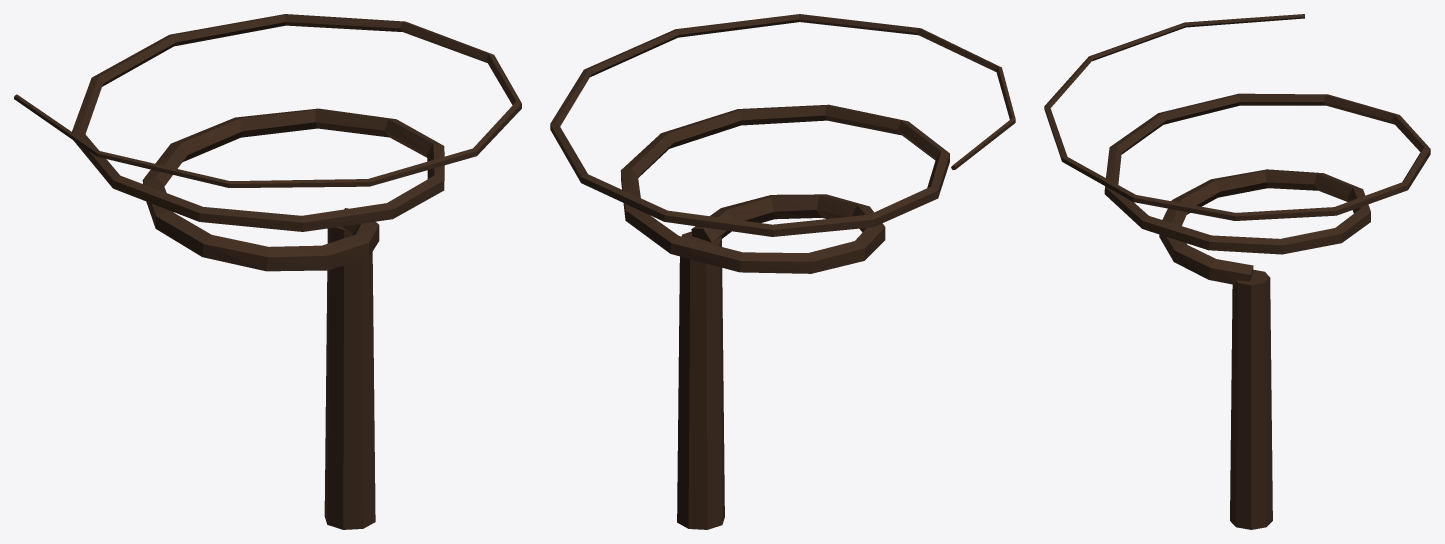
The model's file is g-whip.glb.
3 views of the same model, side by side, from view 1: azimuth 30°, elevation 25°; view 2: azimuth 150°, elevation 25°; view 3: azimuth 270°, elevation 25° (orthographic). The views are drawn at different scales.
Visible parts, largest first — view 1: g-whip; view 2: g-whip; view 3: g-whip.
Boxes of the visible parts, x1,y1,x2,y2 form: g-whip: [14, 14, 521, 529]; g-whip: [550, 14, 1015, 529]; g-whip: [1044, 14, 1430, 529].
Size of the model in its own units: 0.3068 by 0.3177 by 0.2873.
